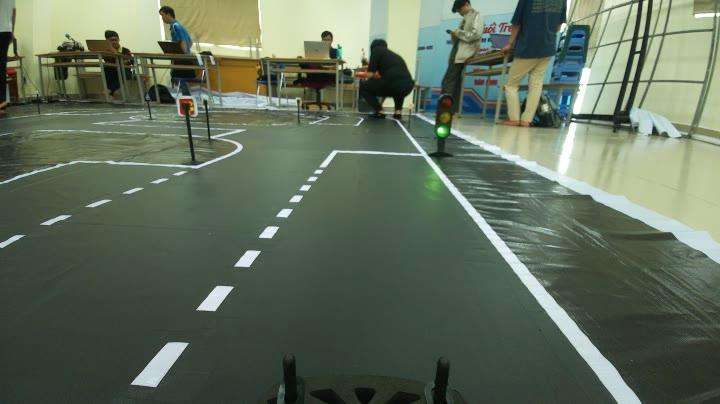trafficlight: (419, 88, 462, 162)
